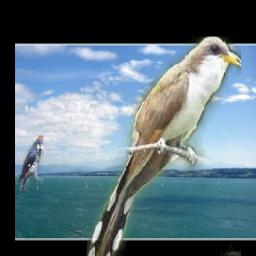Cuckoo: (87, 38, 241, 256)
Woodpecker: (19, 135, 44, 191)
